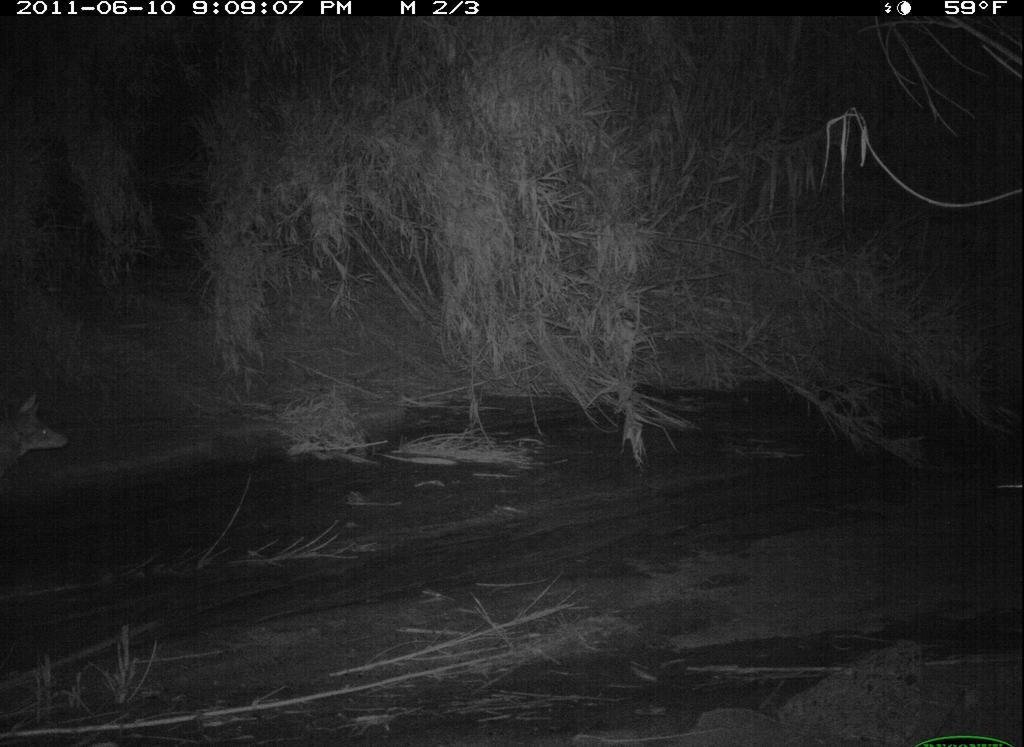coyote: (2, 379, 71, 488)
